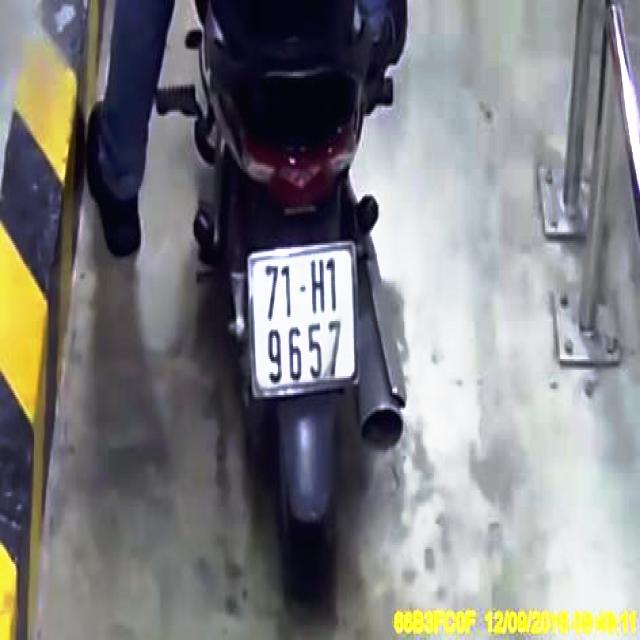license_plate: (253, 247, 358, 389)
